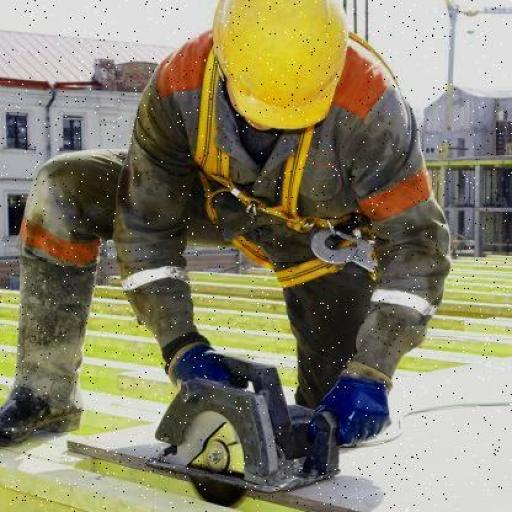person: (0, 0, 456, 487)
safety_shoe: (0, 225, 92, 451)
